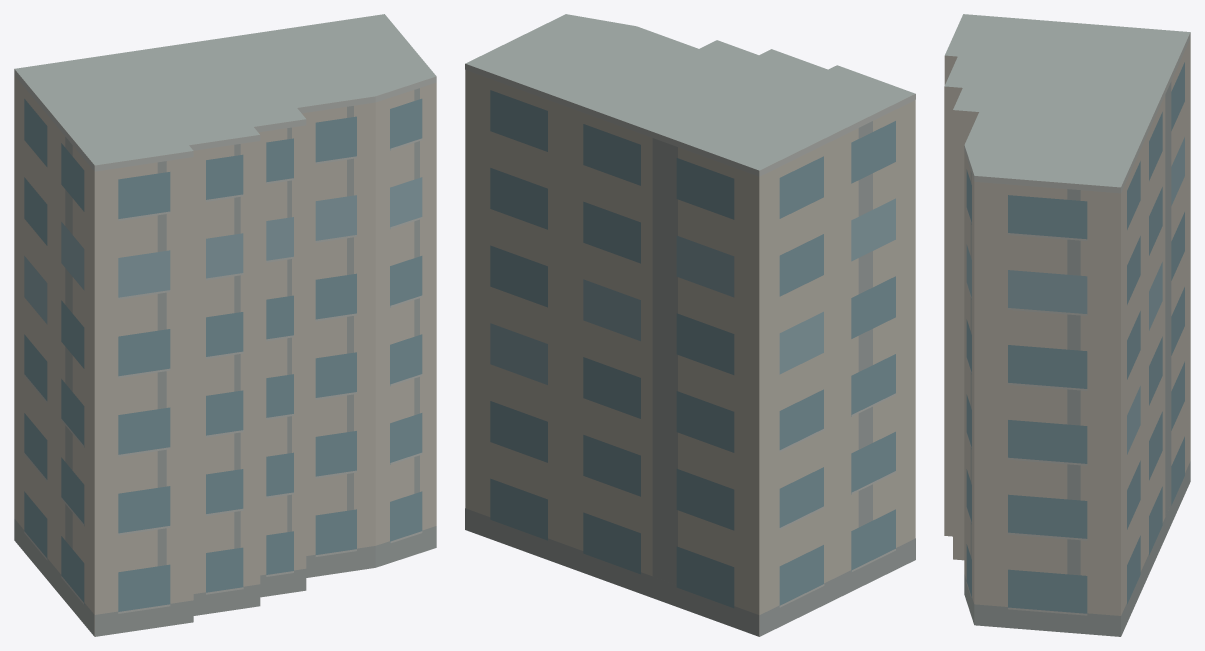
File: survey-upis-33022560.glb
The picture shows the model from 3 angles, left to right: view 1: azimuth 30°, elevation 25°; view 2: azimuth 150°, elevation 25°; view 3: azimuth 270°, elevation 25°; orthographic projection. The views are drawn at different scales.
Parts seen in each view (by area): view 1: survey-upis-33022560.tmp; view 2: survey-upis-33022560.tmp; view 3: survey-upis-33022560.tmp.
Part boxes in pixels (bbox=[...]): survey-upis-33022560.tmp: bbox=[14, 14, 436, 636]; survey-upis-33022560.tmp: bbox=[465, 14, 915, 636]; survey-upis-33022560.tmp: bbox=[944, 14, 1190, 636].
Size of the model in its own units: 15.4 by 18.6 by 9.24.
